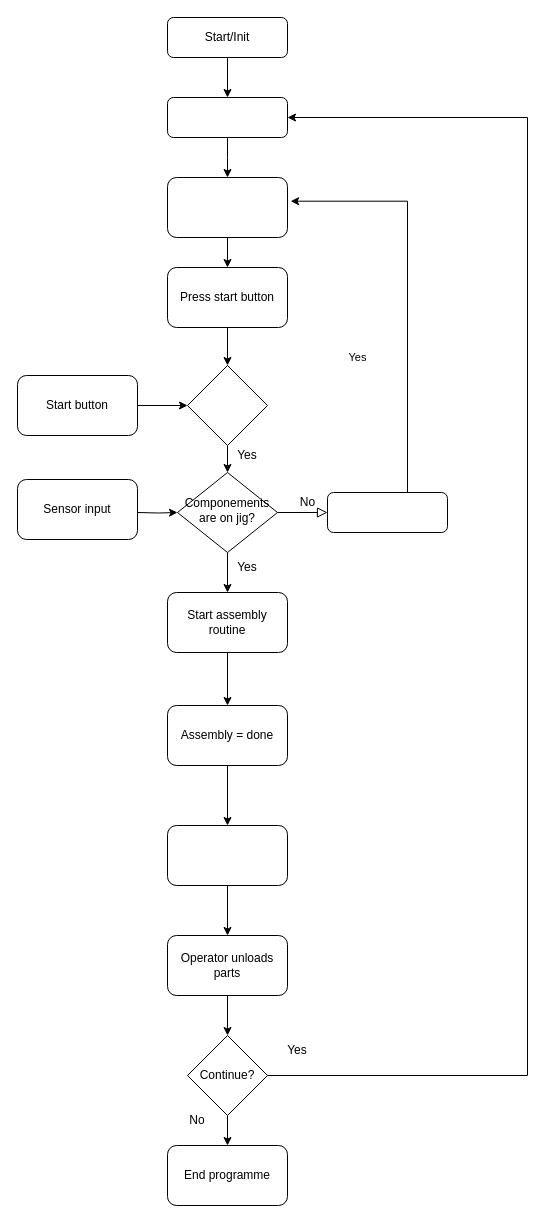
Some shapes in this 553 by 1223 pixel diagram are drawn without their labels. Each missing label, with the centre of its shape:
Check if default state is active: the point at 227,117
Error display: the point at 387,512
Move robot to default state: the point at 227,855
Place componements on jigs: the point at 227,207
Start button high?: the point at 227,405
